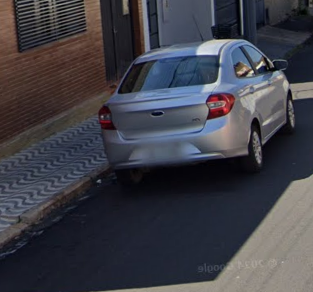car: (95, 14, 298, 192)
